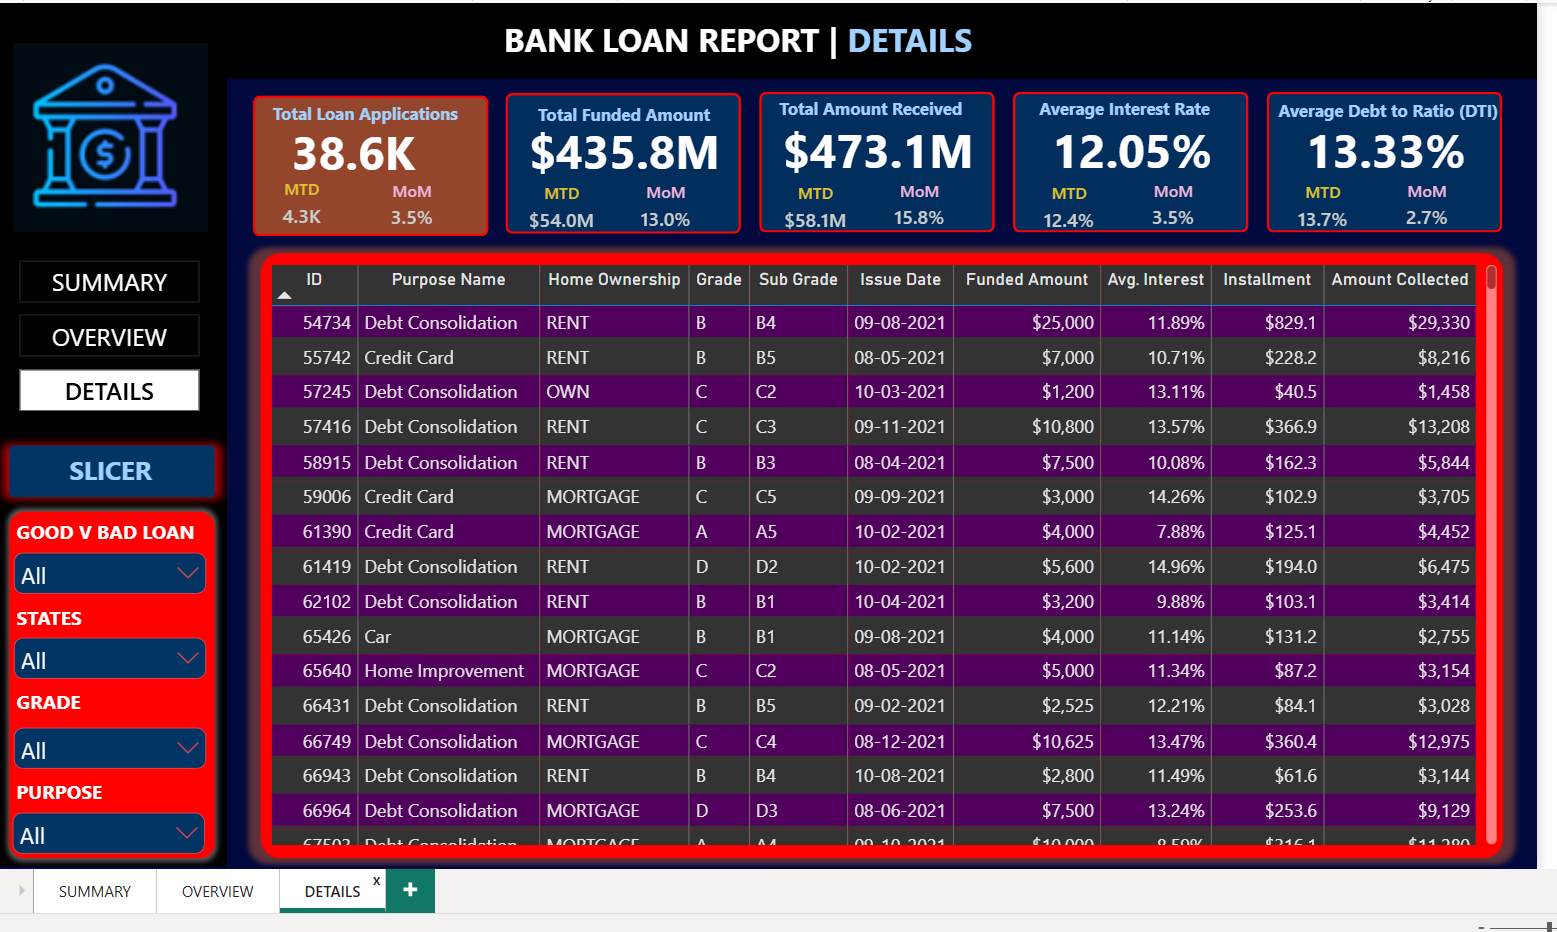

Layout of this report page (visuals, bound fields, positions):
{"tool":"powerbi","page":{"name":"DETAILS","canvas":[1280,720],"ordinal":2},"visuals":[{"type":"shape","box":[1055.7,73.6,195.7,117.1],"z":0,"group":"g4"},{"type":"shape","box":[633.5,74.3,195.7,117.1],"z":0,"group":"g2"},{"type":"shape","box":[844.6,74.3,195.7,117.1],"z":0,"group":"g3"},{"type":"shape","box":[422.5,74.4,195.7,117.1],"z":0,"group":"g1"},{"type":"shape","box":[211.4,76.5,195.7,117.1],"z":0,"group":"g5"},{"type":"group","id":"g1","title":"Group 1","box":[421.1,74.4,197.1,124.3],"z":1000},{"type":"card","fields":{"Values":["1  DAX Measures.Average DTI"]},"box":[1066.5,83,175.7,77.1],"z":1000,"group":"g4"},{"type":"card","fields":{"Values":["1  DAX Measures.Total Amount Received"]},"box":[644.3,83.7,175.7,77.1],"z":1000,"group":"g2"},{"type":"card","fields":{"Values":["1  DAX Measures.Average Interest Rate"]},"box":[855.4,83.7,175.7,77.1],"z":1000,"group":"g3"},{"type":"card","fields":{"Values":["1  DAX Measures.Total Funded Amount"]},"box":[433.3,83.8,175.7,77.1],"z":1000,"group":"g1"},{"type":"card","fields":{"Values":["1  DAX Measures.Total Loan Applications"]},"box":[217.2,87.9,157.1,70],"z":1000,"group":"g5"},{"type":"textbox","box":[415.4,7,449.2,47.4],"z":2000},{"type":"textbox","box":[637.8,72.9,177.1,34.3],"z":2000,"group":"g2"},{"type":"textbox","box":[848.9,72.9,177.1,34.3],"z":2000,"group":"g3"},{"type":"textbox","box":[1054.3,75,204.3,31.4],"z":2000,"group":"g4"},{"type":"textbox","box":[216.9,76.7,176.2,34.8],"z":2000,"group":"g5"},{"type":"textbox","box":[435.6,77.1,170,30.9],"z":2000,"group":"g1"},{"type":"group","id":"g2","title":"Group 1","box":[632.1,72.9,197.1,125.7],"z":3000},{"type":"card","title":"MTD","fields":{"Values":["1  DAX Measures.MTD Loan Applications"]},"box":[204.3,145.1,95.7,50],"z":3000,"group":"g5"},{"type":"card","title":"MTD","fields":{"Values":["1  DAX Measures.MTD DTI"]},"box":[1054.3,147.9,95.7,50],"z":3000,"group":"g4"},{"type":"card","title":"MTD","fields":{"Values":["1  DAX Measures.MTD Amount Received"]},"box":[632.1,148.6,95.7,50],"z":3000,"group":"g2"},{"type":"card","title":"MTD","fields":{"Values":["1  DAX Measures.MTD Interest Rate"]},"box":[843.2,148.6,95.7,50],"z":3000,"group":"g3"},{"type":"card","title":"MTD","fields":{"Values":["1  DAX Measures.MTD Funded Amount"]},"box":[421.1,148.7,95.7,50],"z":3000,"group":"g1"},{"type":"group","id":"g3","title":"Group 1","box":[843.2,72.9,197.1,125.7],"z":4000},{"type":"card","title":"MoM","fields":{"Values":["1  DAX Measures.MoM Loan Applications"]},"box":[285.7,146.5,117.1,50],"z":4000,"group":"g5"},{"type":"card","title":"MoM","fields":{"Values":["1  DAX Measures.MoM DTI"]},"box":[1130,146.5,117.1,50],"z":4000,"group":"g4"},{"type":"card","title":"MoM","fields":{"Values":["1  DAX Measures.MoM Amount Received"]},"box":[707.8,147.2,117.1,50],"z":4000,"group":"g2"},{"type":"card","title":"MoM","fields":{"Values":["1  DAX Measures.MoM Interest Rate"]},"box":[918.9,147.2,117.1,50],"z":4000,"group":"g3"},{"type":"card","title":"MoM","fields":{"Values":["1  DAX Measures.MoM Funded Amount"]},"box":[496.8,147.3,117.1,50],"z":4000,"group":"g1"},{"type":"group","id":"g4","title":"Group 1","box":[1054.3,73.6,204.3,124.3],"z":5000},{"type":"textbox","box":[10,494.2,70,31.7],"z":6000},{"type":"slicer","fields":{"Values":["financial_loan.grade"]},"box":[8,597.9,170,45],"z":7000},{"type":"slicer","fields":{"Values":["financial_loan.Purpose Name"]},"box":[7.6,667.9,170.2,44.4],"z":8000},{"type":"textbox","box":[10,564.2,75,37],"z":9000},{"type":"textbox","box":[10,639.6,88.3,31.7],"z":10000},{"type":"slicer","fields":{"Values":["financial_loan.Good vrs Bad Loan"]},"box":[8,452.5,170,45],"z":11000},{"type":"textbox","box":[10.2,422.9,158.7,33],"z":12000},{"type":"tableEx","fields":{"Values":["financial_loan.id","financial_loan.Purpose Name","financial_loan.home_ownership","financial_loan.grade","financial_loan.sub_grade","financial_loan.issue_date","1  DAX Measures.Total Funded Amount","1  DAX Measures.Average Interest Rate","1  DAX Measures.Sum of Installment","1  DAX Measures.Total Amount Received"]},"box":[221.4,213,1029.9,491.6],"z":13000},{"type":"pageNavigator","box":[18,214,150,125],"z":14000},{"type":"image","box":[12,31,162,162],"z":15000},{"type":"slicer","fields":{"Values":["financial_loan.State Name"]},"box":[8,522.6,170,45],"z":16000},{"type":"textbox","box":[8.3,368.9,170.4,39.5],"z":17000},{"type":"group","id":"g5","title":"Group 2","box":[204.3,76.5,202.9,120],"z":17001}]}

Visuals, with their boxes on the page's 1280x720 design canvas (x1, y1, x2, y2). These are canvas units, not pixel positions in the 1557x932 screenshot, which may show the page scaled, cropped or inside an application window:
shape: {"left": 1056, "top": 74, "right": 1251, "bottom": 191}
shape: {"left": 634, "top": 74, "right": 829, "bottom": 191}
shape: {"left": 845, "top": 74, "right": 1040, "bottom": 191}
shape: {"left": 422, "top": 74, "right": 618, "bottom": 192}
shape: {"left": 211, "top": 76, "right": 407, "bottom": 194}
"Group 1" group: {"left": 421, "top": 74, "right": 618, "bottom": 199}
card - 1  DAX Measures.Average DTI: {"left": 1066, "top": 83, "right": 1242, "bottom": 160}
card - 1  DAX Measures.Total Amount Received: {"left": 644, "top": 84, "right": 820, "bottom": 161}
card - 1  DAX Measures.Average Interest Rate: {"left": 855, "top": 84, "right": 1031, "bottom": 161}
card - 1  DAX Measures.Total Funded Amount: {"left": 433, "top": 84, "right": 609, "bottom": 161}
card - 1  DAX Measures.Total Loan Applications: {"left": 217, "top": 88, "right": 374, "bottom": 158}
textbox: {"left": 415, "top": 7, "right": 865, "bottom": 54}
textbox: {"left": 638, "top": 73, "right": 815, "bottom": 107}
textbox: {"left": 849, "top": 73, "right": 1026, "bottom": 107}
textbox: {"left": 1054, "top": 75, "right": 1259, "bottom": 106}
textbox: {"left": 217, "top": 77, "right": 393, "bottom": 112}
textbox: {"left": 436, "top": 77, "right": 606, "bottom": 108}
"Group 1" group: {"left": 632, "top": 73, "right": 829, "bottom": 199}
"MTD" card: {"left": 204, "top": 145, "right": 300, "bottom": 195}
"MTD" card: {"left": 1054, "top": 148, "right": 1150, "bottom": 198}
"MTD" card: {"left": 632, "top": 149, "right": 728, "bottom": 199}
"MTD" card: {"left": 843, "top": 149, "right": 939, "bottom": 199}
"MTD" card: {"left": 421, "top": 149, "right": 517, "bottom": 199}
"Group 1" group: {"left": 843, "top": 73, "right": 1040, "bottom": 199}
"MoM" card: {"left": 286, "top": 146, "right": 403, "bottom": 196}
"MoM" card: {"left": 1130, "top": 146, "right": 1247, "bottom": 196}
"MoM" card: {"left": 708, "top": 147, "right": 825, "bottom": 197}
"MoM" card: {"left": 919, "top": 147, "right": 1036, "bottom": 197}
"MoM" card: {"left": 497, "top": 147, "right": 614, "bottom": 197}
"Group 1" group: {"left": 1054, "top": 74, "right": 1259, "bottom": 198}
textbox: {"left": 10, "top": 494, "right": 80, "bottom": 526}
slicer - financial_loan.grade: {"left": 8, "top": 598, "right": 178, "bottom": 643}
slicer - financial_loan.Purpose Name: {"left": 8, "top": 668, "right": 178, "bottom": 712}
textbox: {"left": 10, "top": 564, "right": 85, "bottom": 601}
textbox: {"left": 10, "top": 640, "right": 98, "bottom": 671}
slicer - financial_loan.Good vrs Bad Loan: {"left": 8, "top": 452, "right": 178, "bottom": 498}
textbox: {"left": 10, "top": 423, "right": 169, "bottom": 456}
tableEx - financial_loan.id x financial_loan.Purpose Name: {"left": 221, "top": 213, "right": 1251, "bottom": 705}
pageNavigator: {"left": 18, "top": 214, "right": 168, "bottom": 339}
image: {"left": 12, "top": 31, "right": 174, "bottom": 193}
slicer - financial_loan.State Name: {"left": 8, "top": 523, "right": 178, "bottom": 568}
textbox: {"left": 8, "top": 369, "right": 179, "bottom": 408}
"Group 2" group: {"left": 204, "top": 76, "right": 407, "bottom": 196}
